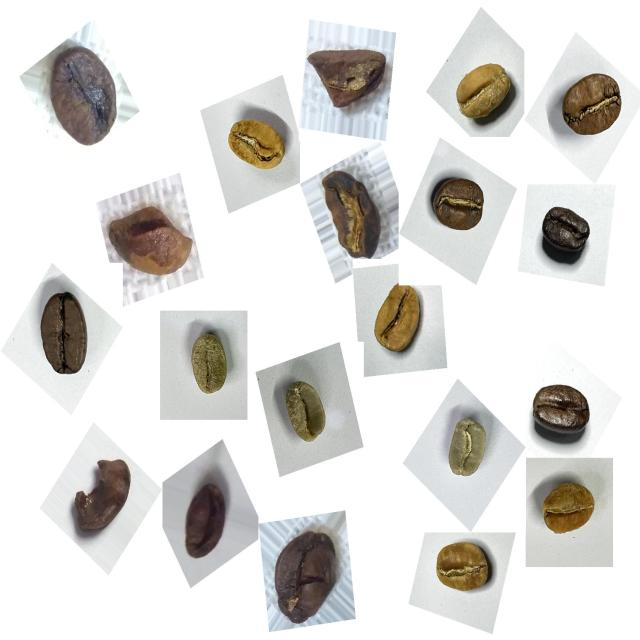bad: (36, 35, 129, 158), (260, 515, 349, 634), (102, 195, 197, 293), (304, 34, 394, 125), (315, 164, 389, 270), (67, 450, 144, 547), (175, 470, 238, 570)
dark: (526, 374, 601, 452), (535, 193, 602, 273)
green: (273, 371, 341, 457), (176, 320, 241, 409), (436, 411, 498, 493)
light: (446, 51, 522, 138), (366, 275, 436, 364), (218, 105, 294, 186), (534, 469, 604, 549), (427, 530, 501, 605)
medium: (27, 286, 103, 388), (552, 65, 632, 153), (424, 168, 494, 245)
